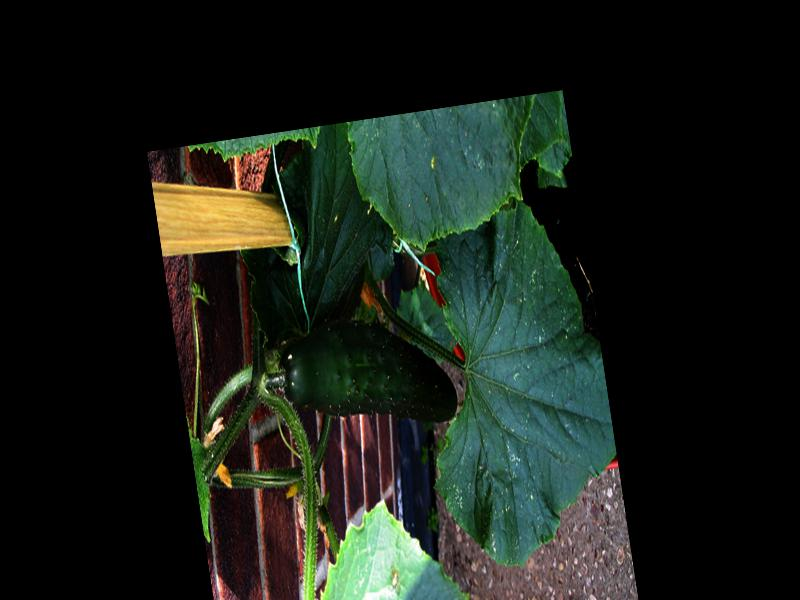Cucumber: (275, 305, 461, 447)
